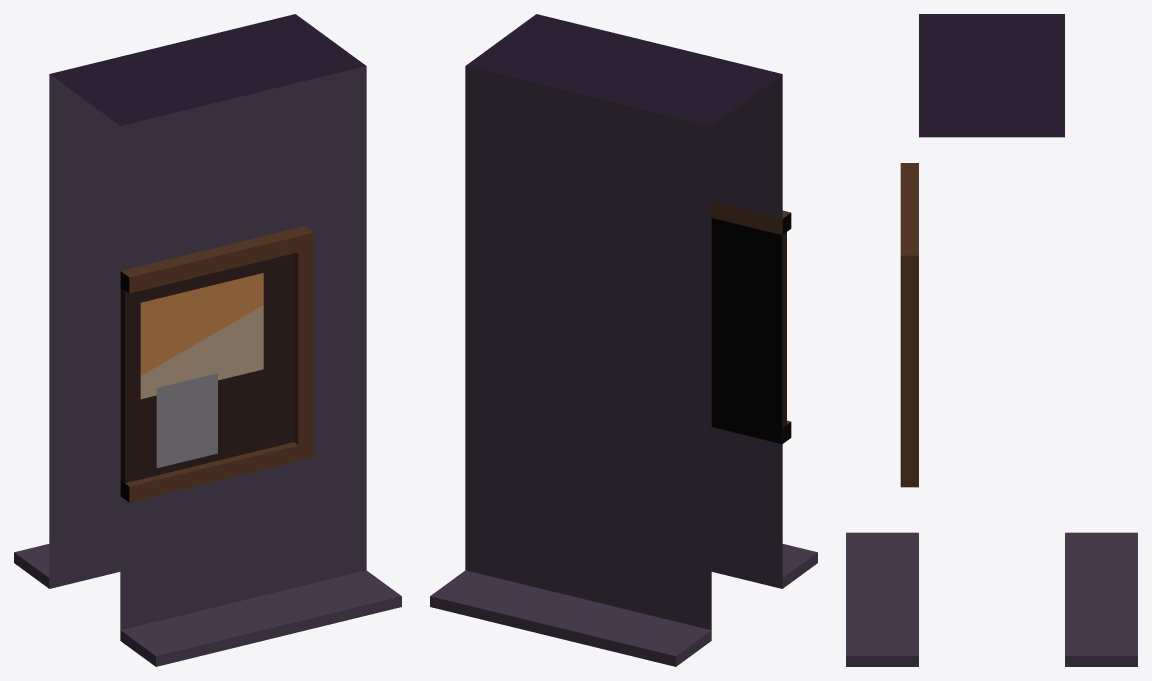
Rendered from wall_bulletin2.dae.
The picture shows the model from 3 angles, left to right: view 1: azimuth 30°, elevation 25°; view 2: azimuth 150°, elevation 25°; view 3: azimuth 270°, elevation 25°; orthographic projection. The views are drawn at different scales.
Visible parts, largest first — view 1: wall_bulletin2_MSH; view 2: wall_bulletin2_MSH; view 3: wall_bulletin2_MSH.
Part boxes in pixels (x1=…): wall_bulletin2_MSH: x1=14, y1=14, x2=401, y2=666; wall_bulletin2_MSH: x1=430, y1=14, x2=817, y2=666; wall_bulletin2_MSH: x1=846, y1=14, x2=1137, y2=666.
Bounding box in the file's own units: 1 × 2 × 1.
